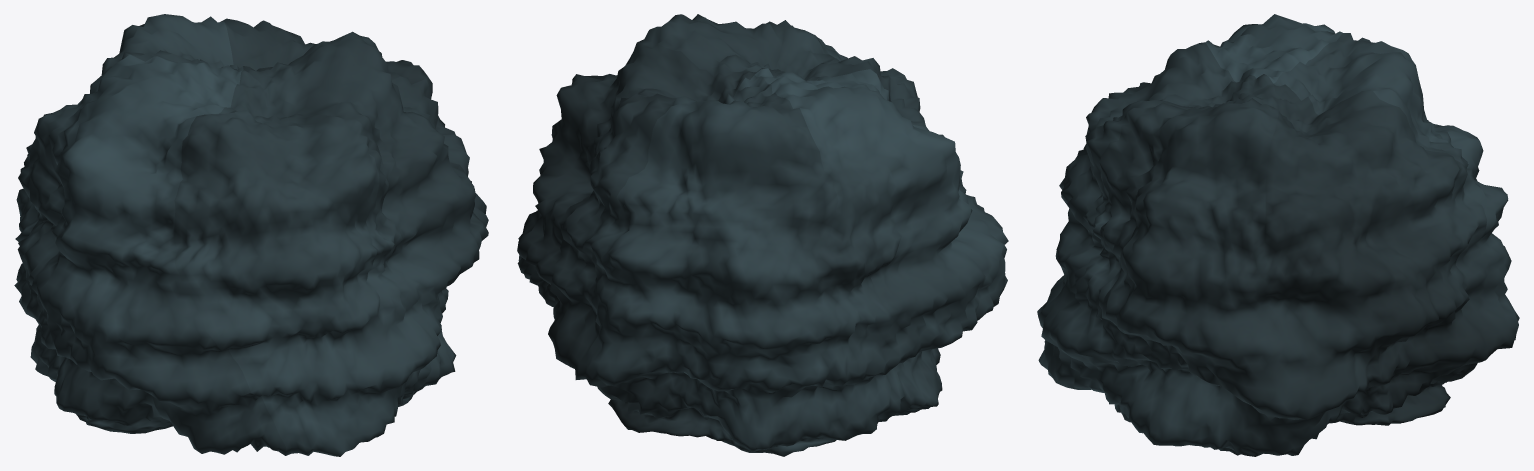
The model's file is SM_Basalt_02.fbx.
3 renders of one model, left to right at view 1: azimuth 30°, elevation 25°; view 2: azimuth 150°, elevation 25°; view 3: azimuth 270°, elevation 25°, orthographic.
Visible parts, largest first — view 1: SM_Basalt_02.001; view 2: SM_Basalt_02.001; view 3: SM_Basalt_02.001.
Part boxes in pixels (bbox=[...]): SM_Basalt_02.001: bbox=[14, 14, 488, 456]; SM_Basalt_02.001: bbox=[517, 14, 1008, 456]; SM_Basalt_02.001: bbox=[1037, 14, 1519, 456].
Size of the model in its own units: 225 by 219 by 170.
